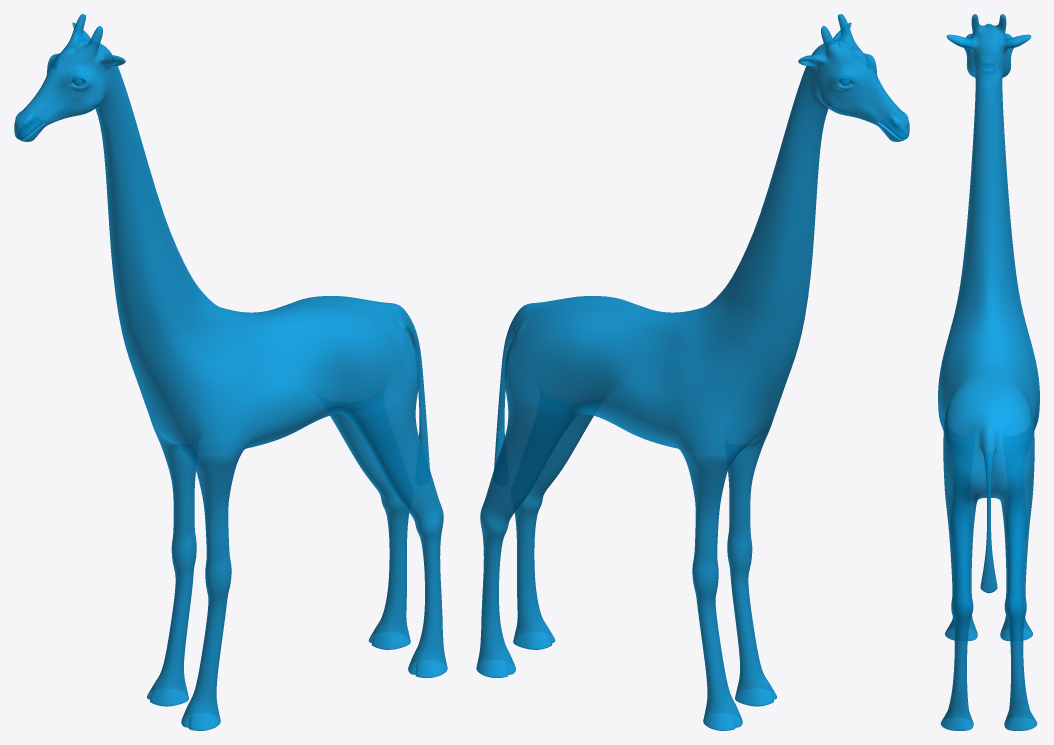
The model's file is kuti_giraffe.obj.
3 renders of one model, left to right at view 1: azimuth 30°, elevation 25°; view 2: azimuth 150°, elevation 25°; view 3: azimuth 270°, elevation 25°, orthographic. The views are drawn at different scales.
Visible parts, largest first — view 1: 10021_Giraffe_v03; view 2: 10021_Giraffe_v03; view 3: 10021_Giraffe_v03.
Boxes of the visible parts, box(x1,y1,x2,y2) form: 10021_Giraffe_v03: box(14, 14, 447, 730); 10021_Giraffe_v03: box(476, 14, 909, 730); 10021_Giraffe_v03: box(938, 14, 1039, 730).
Size of the model in its own units: 9.17 by 15.14 by 2.39.
